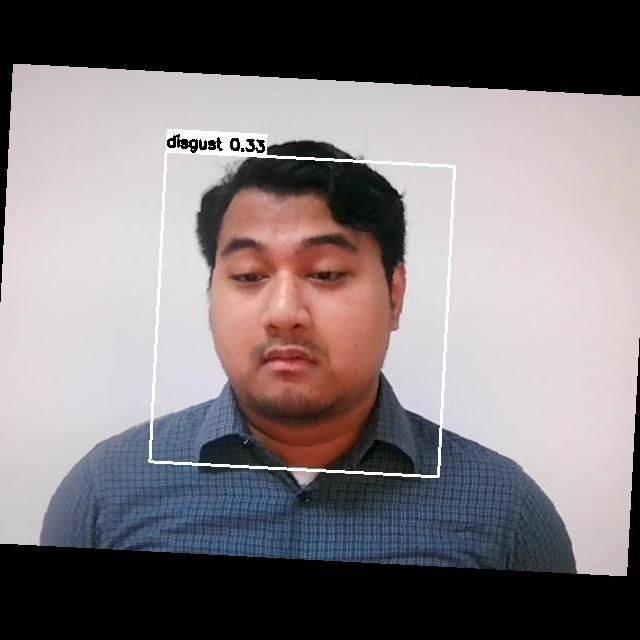Fear: (204, 210, 399, 398)
